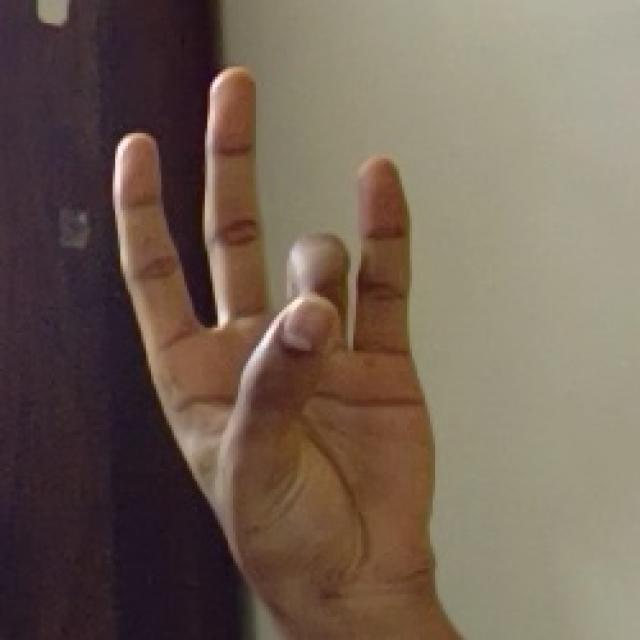Numeric-7: (114, 58, 448, 616)
